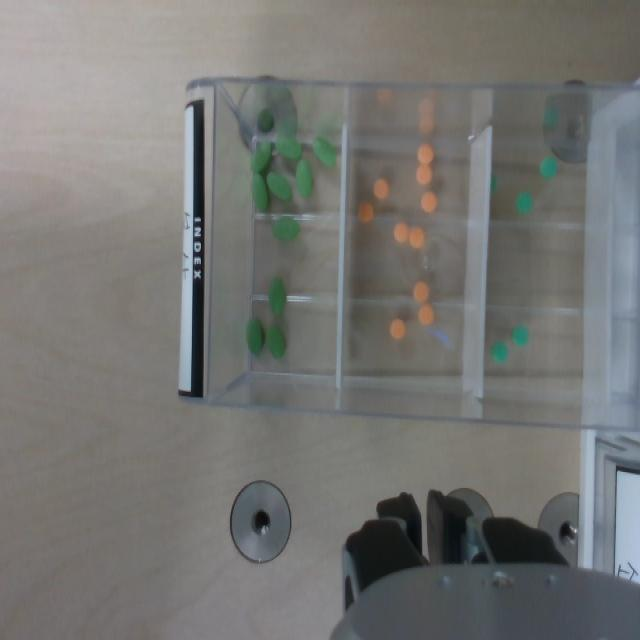famodine: (541, 155, 559, 178), (517, 190, 533, 213), (513, 325, 528, 345), (493, 341, 508, 361)
otillen_tab: (312, 135, 338, 166), (268, 276, 286, 318), (267, 170, 292, 200), (312, 136, 336, 167), (267, 320, 286, 359), (246, 319, 265, 356), (276, 134, 303, 160), (268, 277, 286, 316), (267, 171, 291, 200), (250, 174, 269, 209), (275, 135, 302, 159), (272, 216, 299, 240), (252, 139, 271, 173), (247, 317, 264, 355), (295, 159, 312, 197), (252, 141, 272, 173), (267, 323, 285, 357), (252, 173, 268, 211), (271, 216, 298, 238), (297, 159, 312, 197)
samsung_octylonium_tab: (393, 220, 410, 243), (417, 144, 434, 164), (416, 165, 433, 185), (421, 191, 438, 211), (418, 304, 434, 325), (409, 227, 424, 248), (358, 202, 373, 222), (413, 282, 428, 302), (391, 318, 405, 339), (374, 179, 388, 199)
